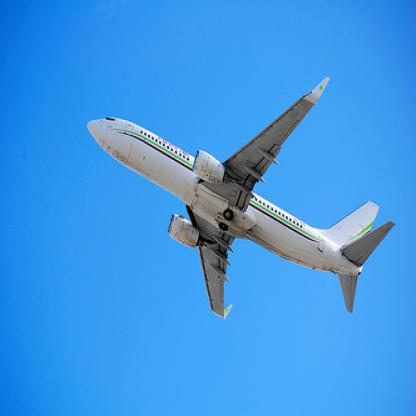aeroplane: (86, 75, 395, 320)
